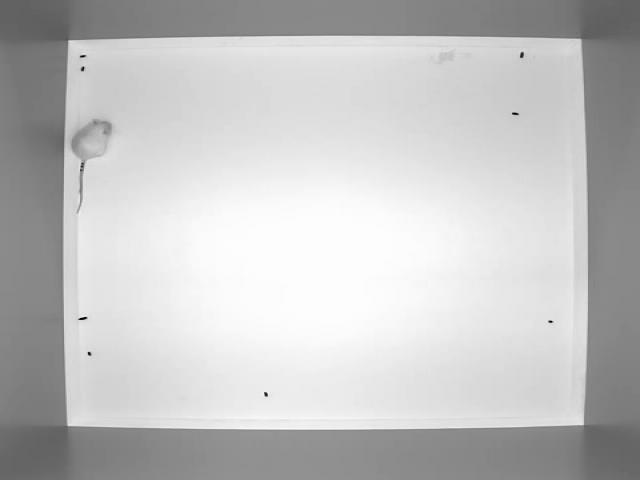Tikus: (60, 117, 130, 217)
